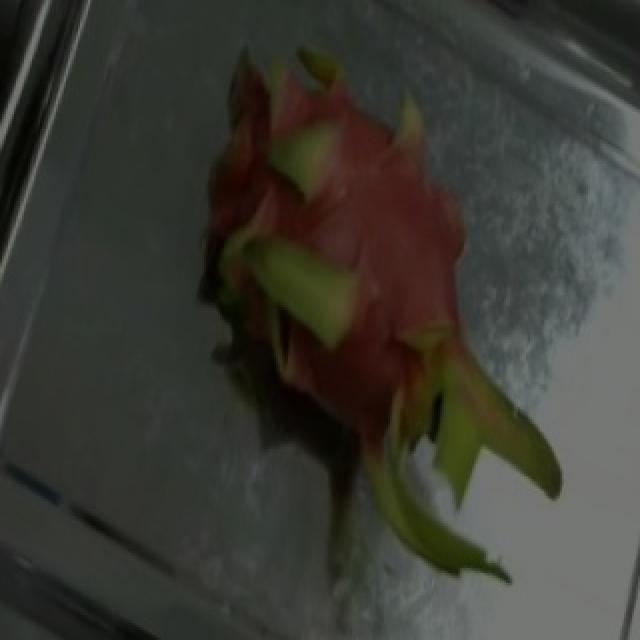fruit: (196, 141, 630, 603)
